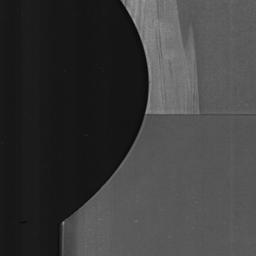Crescent gap: (63, 0, 148, 221)
